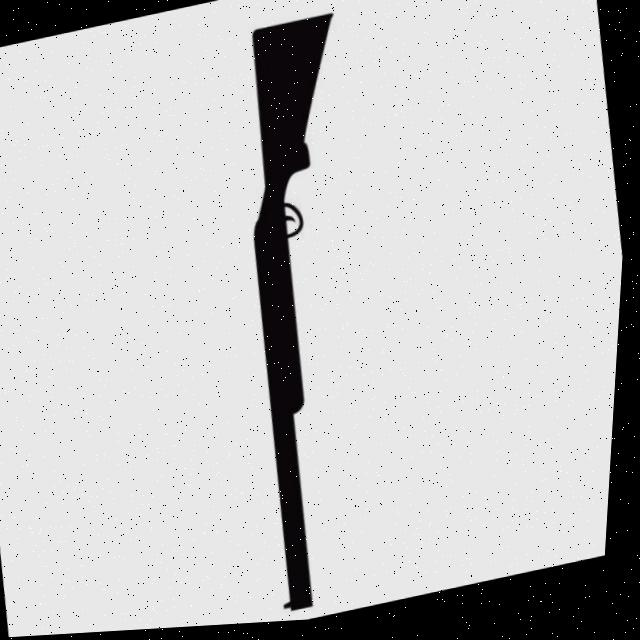firearm: (198, 11, 427, 622)
